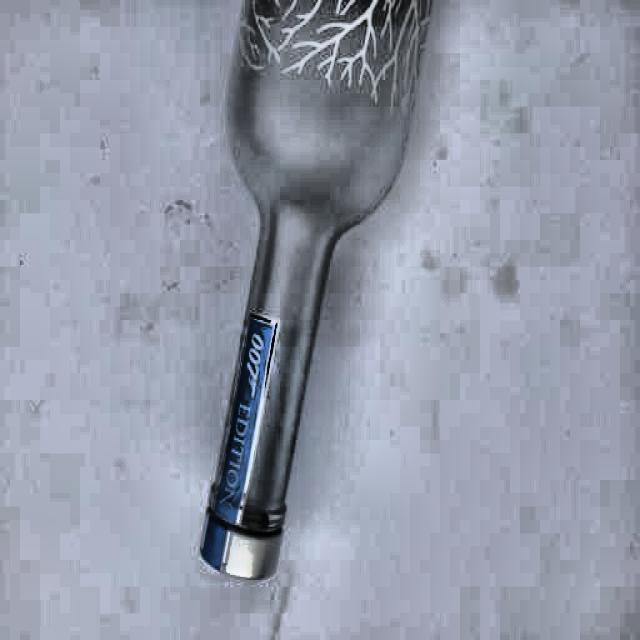glass: (197, 8, 414, 578)
